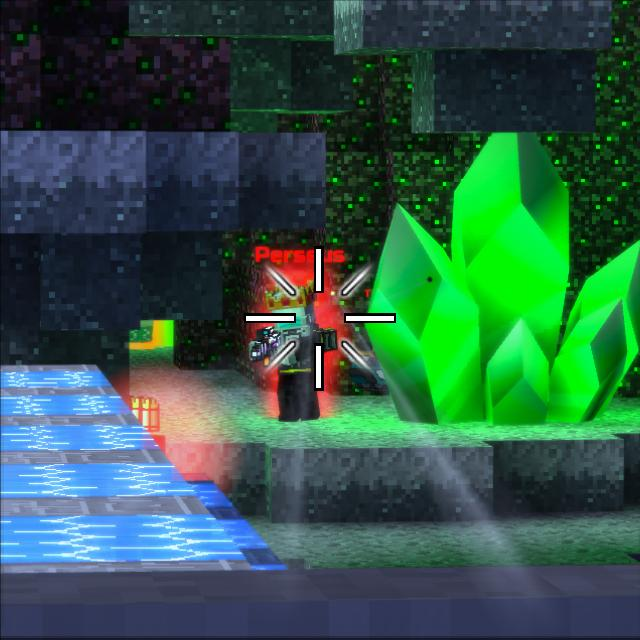Enemy: (248, 289, 337, 423)
